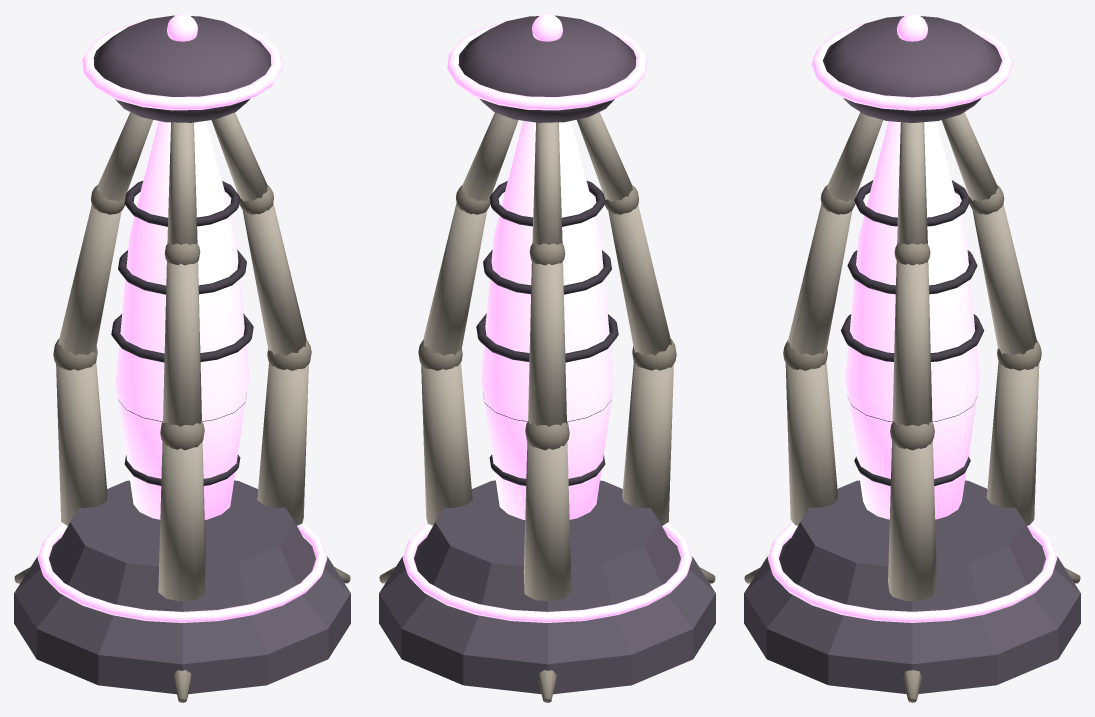
File: pylon.glb
3 views of the same model, side by side, from view 1: azimuth 30°, elevation 25°; view 2: azimuth 150°, elevation 25°; view 3: azimuth 270°, elevation 25° (orthographic).
Parts seen in each view (by area): view 1: Pylon; view 2: Pylon; view 3: Pylon.
Boxes of the visible parts, left/top/right/bottom form: Pylon: left=14, top=14, right=350, bottom=702; Pylon: left=379, top=14, right=715, bottom=702; Pylon: left=744, top=14, right=1080, bottom=702.
Bounding box in the file's own units: 1.61 × 2.99 × 1.5.
